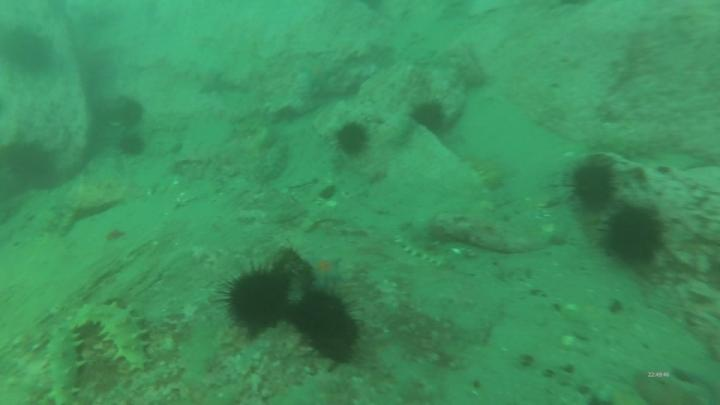echinus: (216, 263, 294, 338), (292, 285, 363, 366), (606, 199, 667, 270), (560, 154, 621, 214), (1, 24, 57, 73), (1, 138, 57, 177), (333, 119, 373, 163), (408, 100, 449, 135), (115, 98, 149, 134), (117, 131, 149, 159)
holothurian: (70, 301, 154, 377), (45, 321, 86, 405), (391, 228, 459, 272), (459, 152, 508, 193)
starfish: (306, 251, 347, 285)
